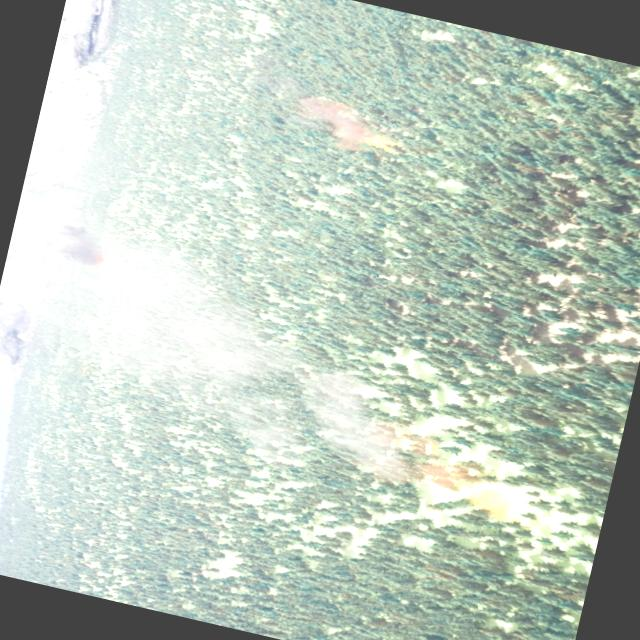fire: (461, 476, 515, 516), (361, 130, 402, 154), (97, 254, 122, 276)
smoke: (0, 204, 483, 490), (10, 190, 106, 272), (290, 92, 380, 154)
